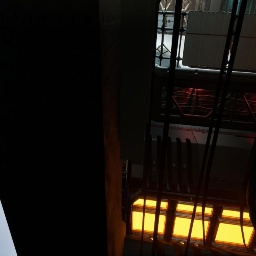EmergencyPhone ,: (122, 160, 131, 223)
FirstAidBox ,: (230, 42, 233, 53)
SafetySwitchPanel ,: (120, 0, 161, 164)
